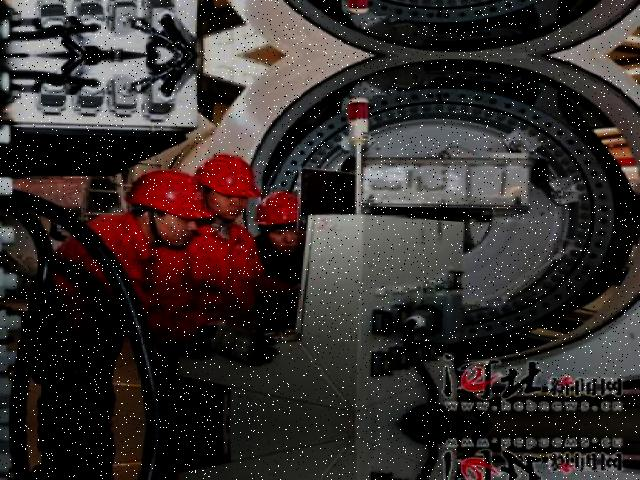Helmet: (121, 165, 212, 222), (190, 149, 262, 203), (250, 187, 300, 230)
